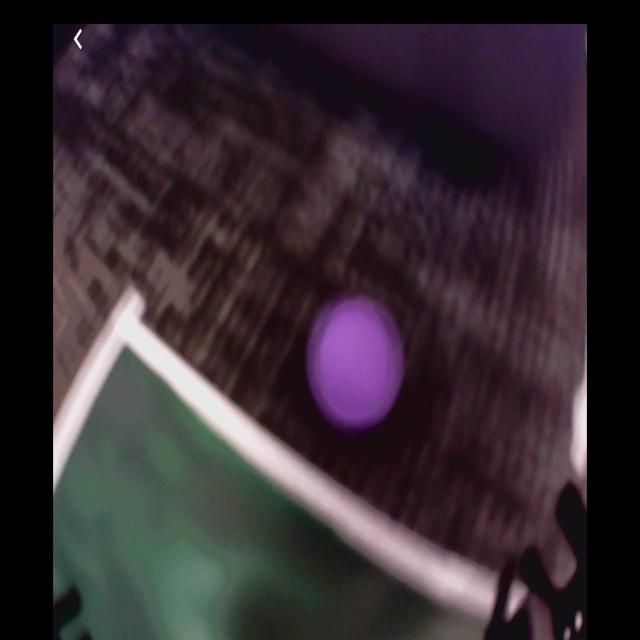ball: (313, 303, 400, 425)
